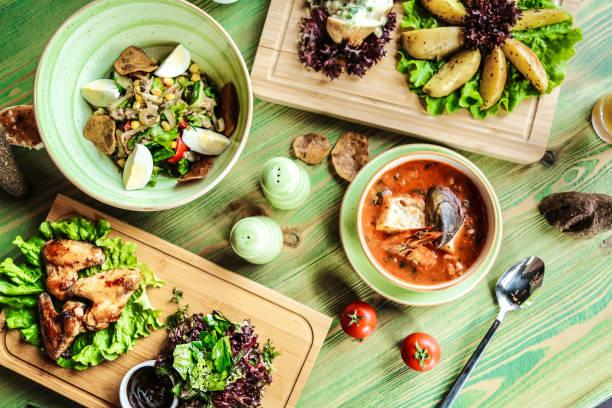Braised Crucian Carp: (0, 195, 329, 407), (254, 2, 567, 165), (35, 1, 250, 213), (340, 144, 500, 305)
